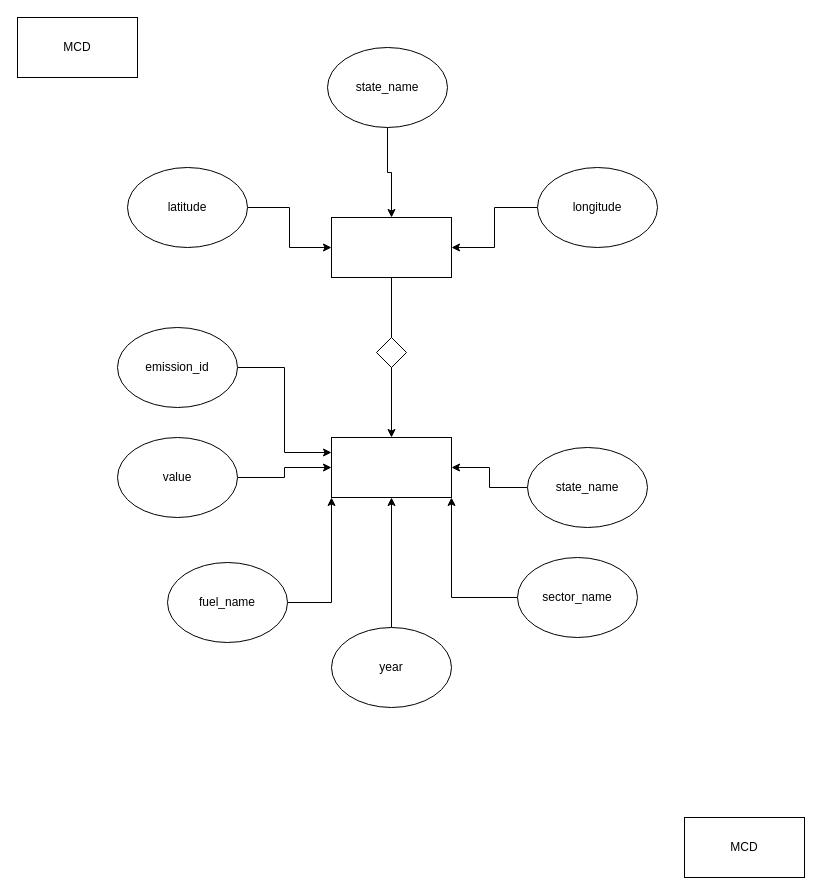
This 822x895 diagram has some shape labels left out. Here are the shapes that lost their labels. From the top down, the centre of each, then its label:
At pixel 391 247: "Etat (state)".
At pixel 391 352: "1,n".
At pixel 391 467: "Emissions (emissions)".
